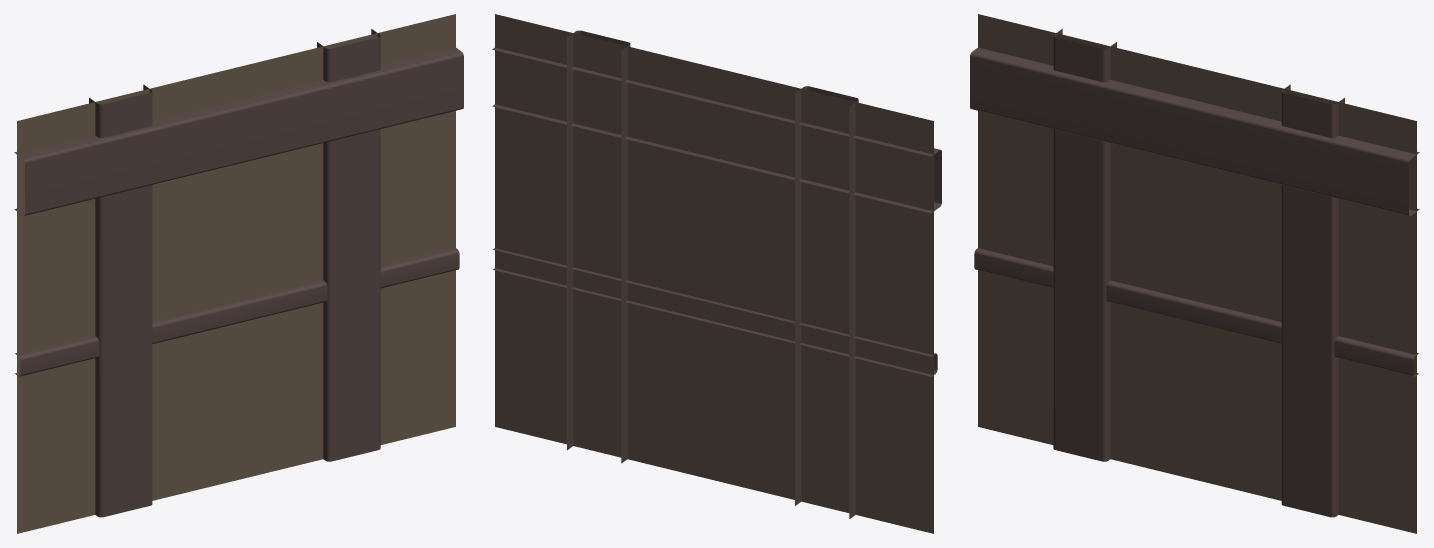
Rendered from ParedMadera_1.fbx.
3 views of the same model, side by side, from view 1: azimuth 30°, elevation 25°; view 2: azimuth 150°, elevation 25°; view 3: azimuth 330°, elevation 25° (orthographic).
Visible parts, largest first — view 1: pCube66; view 2: pCube66; view 3: pCube66.
Part boxes in pixels (x1,y1,x2,y2): pCube66: (14,14,463,533); pCube66: (492,14,941,533); pCube66: (970,14,1419,533).
Bounding box in the file's own units: 5.6 × 5.03 × 0.3168.
